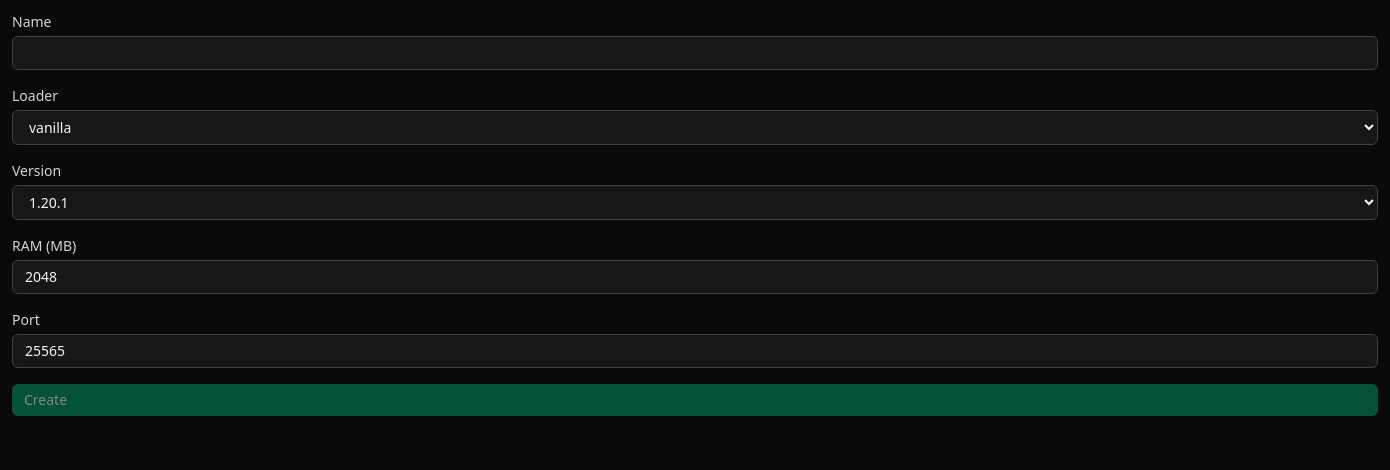
Test: CreateWizard › clears the error when a corrected retry succeeds
The image size is (1390, 470).
In the field labelled "Name": [695, 53] box [12,36,1378,70], type "survival"
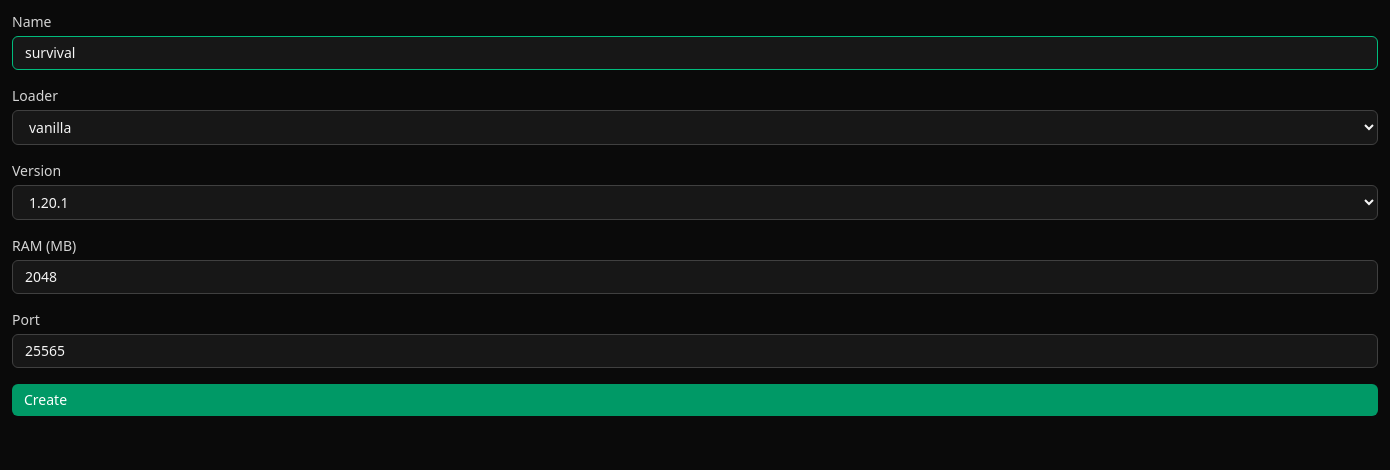
expect the dropdown labelled "Version" is enabled: met, box [12,185,1378,220]
Click the button "Create": [46, 400] box [12,384,1378,416]
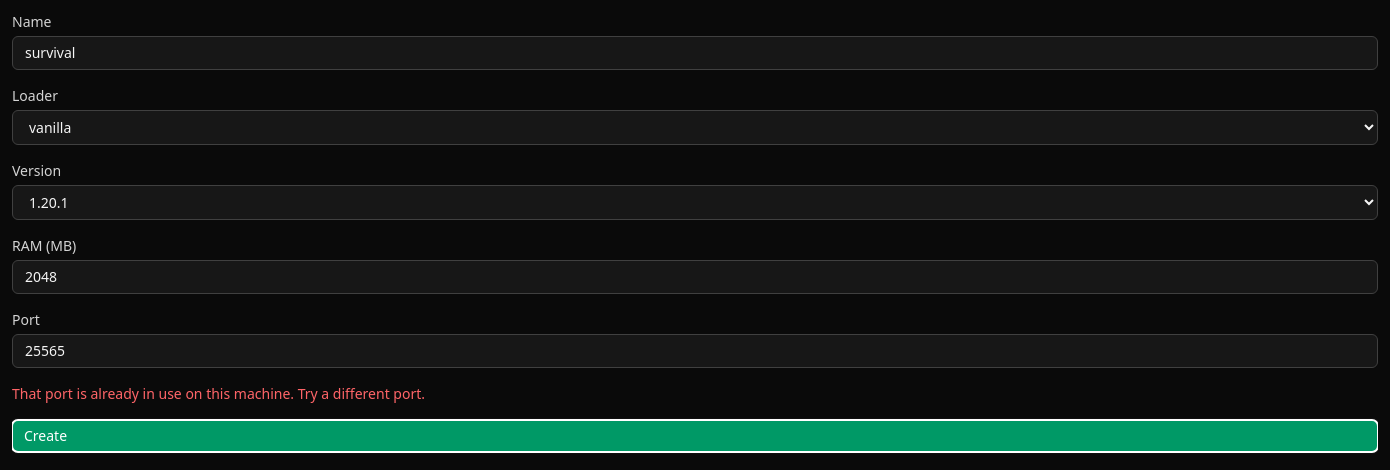
expect the message "That port is already in use on this machine. Try a different port." is shown: met, box [12,384,425,403]
Replace the text in the number field labelled "Port" with "25570": [695, 351] box [12,334,1378,368]
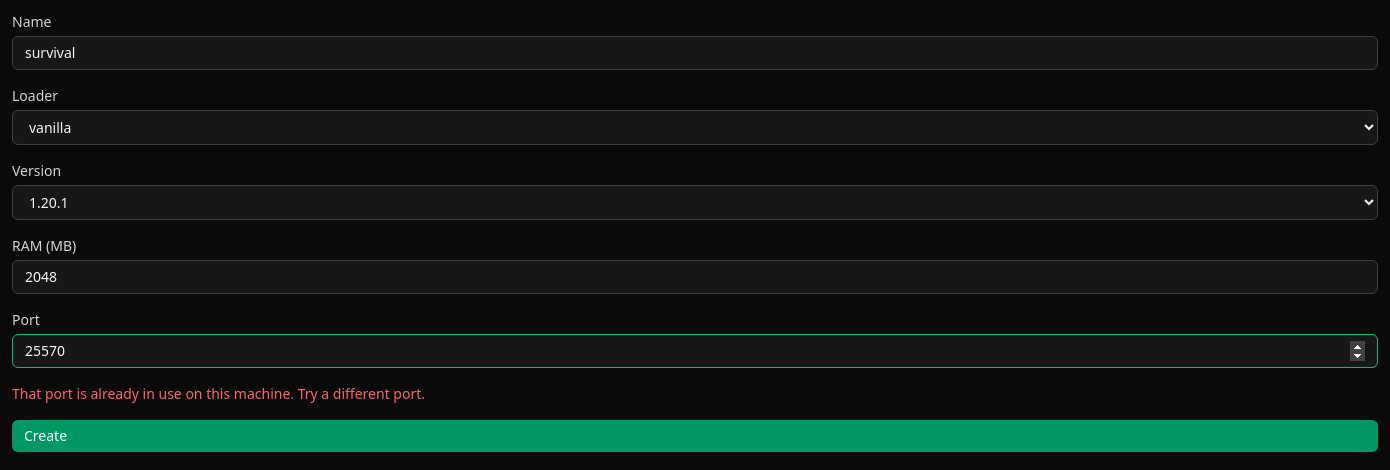
Click the button "Create": [46, 436] box [12,420,1378,452]
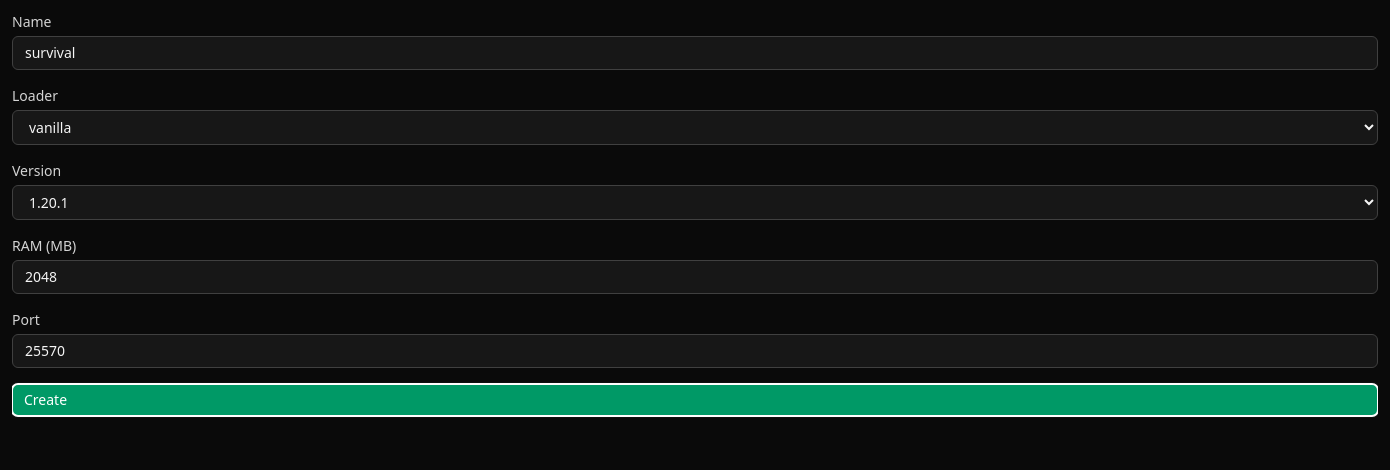
expect the message "That port is already in use on this machine. Try a different port." is gone: met
